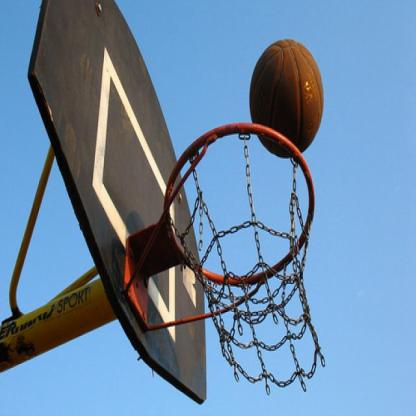basketball: (248, 40, 327, 160)
